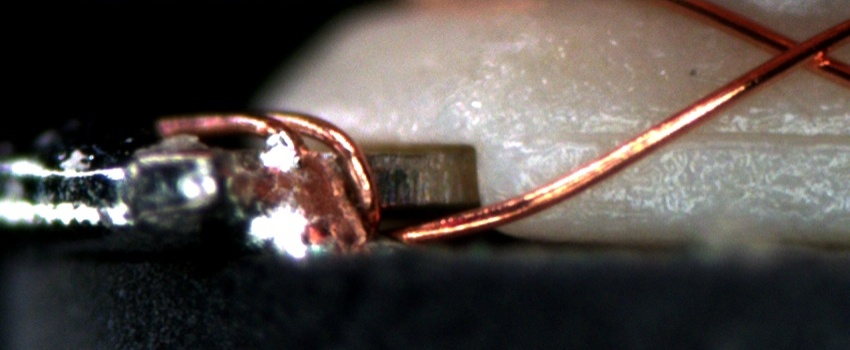CL: (753, 21, 845, 78)
DL: (560, 109, 850, 171)
TE: (149, 100, 389, 228)
